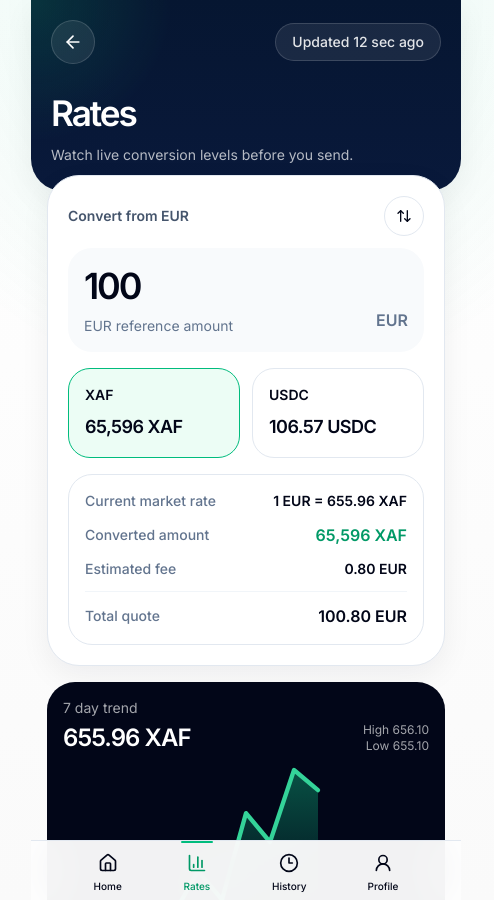
Test: supporting app routes › renders the rates screen with the rates tab active, chart visible, and swap action working
Check: the heading "Rates" is shown, box x1=51 y1=92 x2=136 y2=134
Check: the text "Estimated fee" is shown, box x1=85 y1=559 x2=176 y2=579
Replace the text in the field named "Reference amount" with "200" at (222, 286), box x1=84 y1=264 x2=360 y2=308
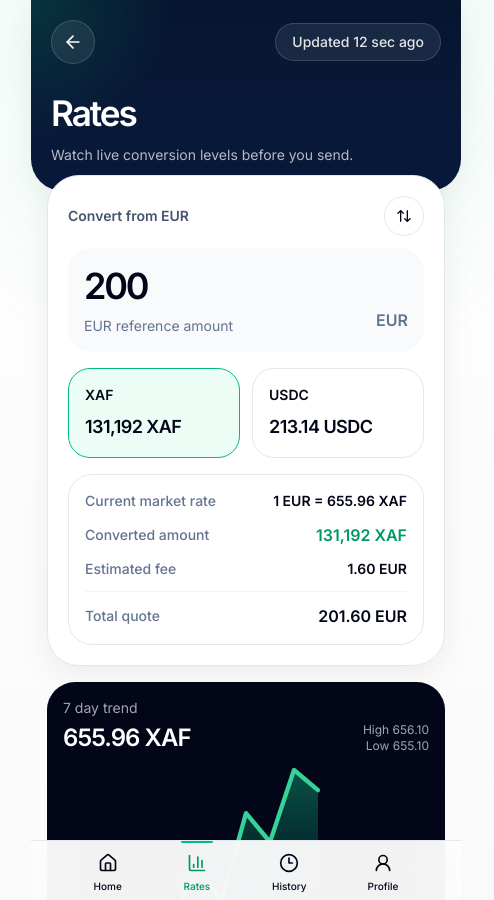
Check: the 1st text "131,192 XAF" is shown, box x1=85 y1=416 x2=181 y2=437
Check: the text "201.60 EUR" is shown, box x1=318 y1=604 x2=407 y2=628
Click the button named "Swap converting currencies".
click(404, 216)  # box x1=384 y1=196 x2=424 y2=236
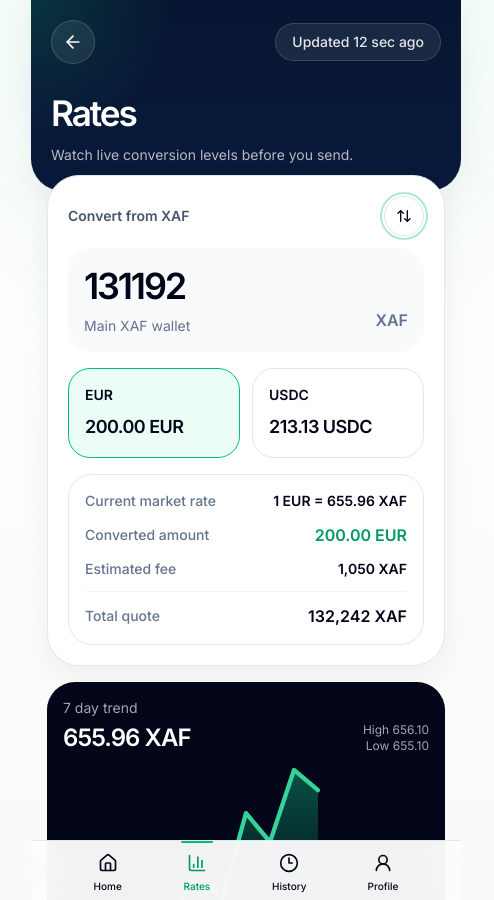
Check: the text "Convert from XAF" is shown, box x1=68 y1=206 x2=190 y2=226
Check: the text "1,050 XAF" is shown, box x1=338 y1=559 x2=407 y2=579
Check: the text "132,242 XAF" is shown, box x1=308 y1=604 x2=407 y2=628
